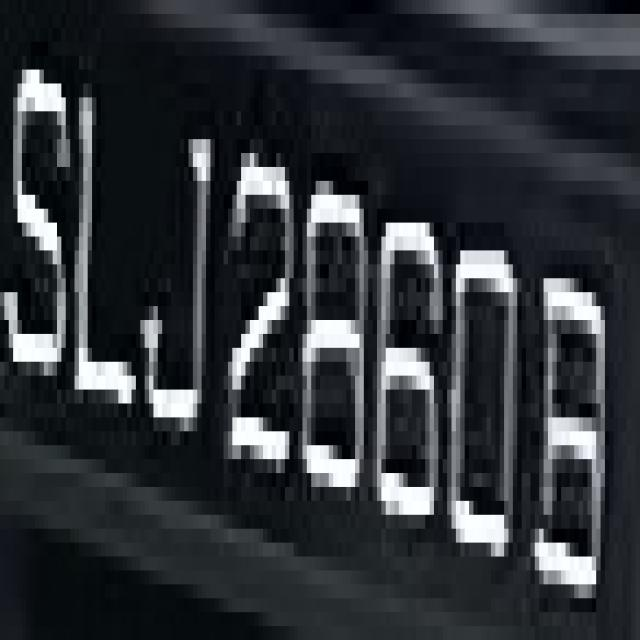0: (452, 181, 518, 584)
2: (219, 83, 298, 501)
6: (368, 167, 452, 543)
8: (285, 125, 373, 529)
B: (530, 237, 618, 598)
J: (149, 70, 210, 459)
L: (61, 70, 140, 459)
S: (9, 42, 70, 403)
